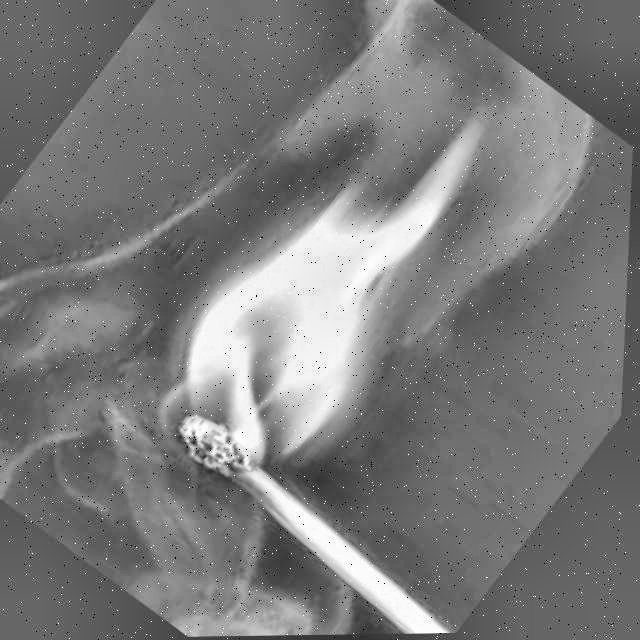Fire: (120, 58, 563, 534)
